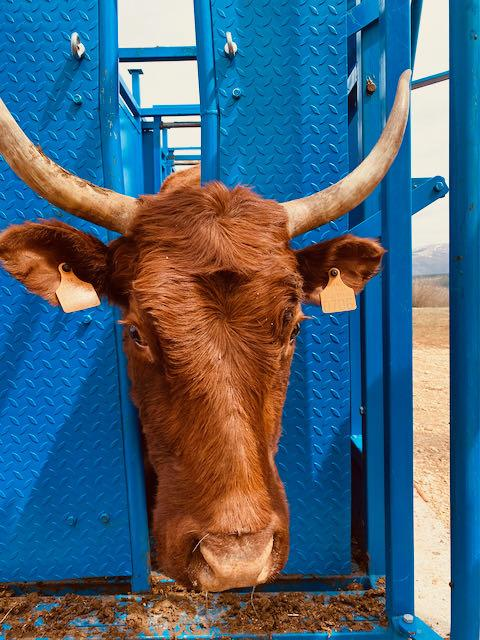muzzles: (172, 515, 290, 598)
